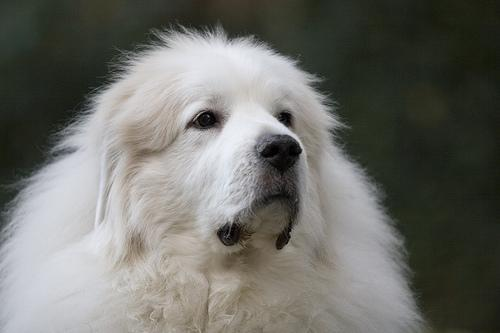Great_Pyrenees: (1, 21, 429, 332)
